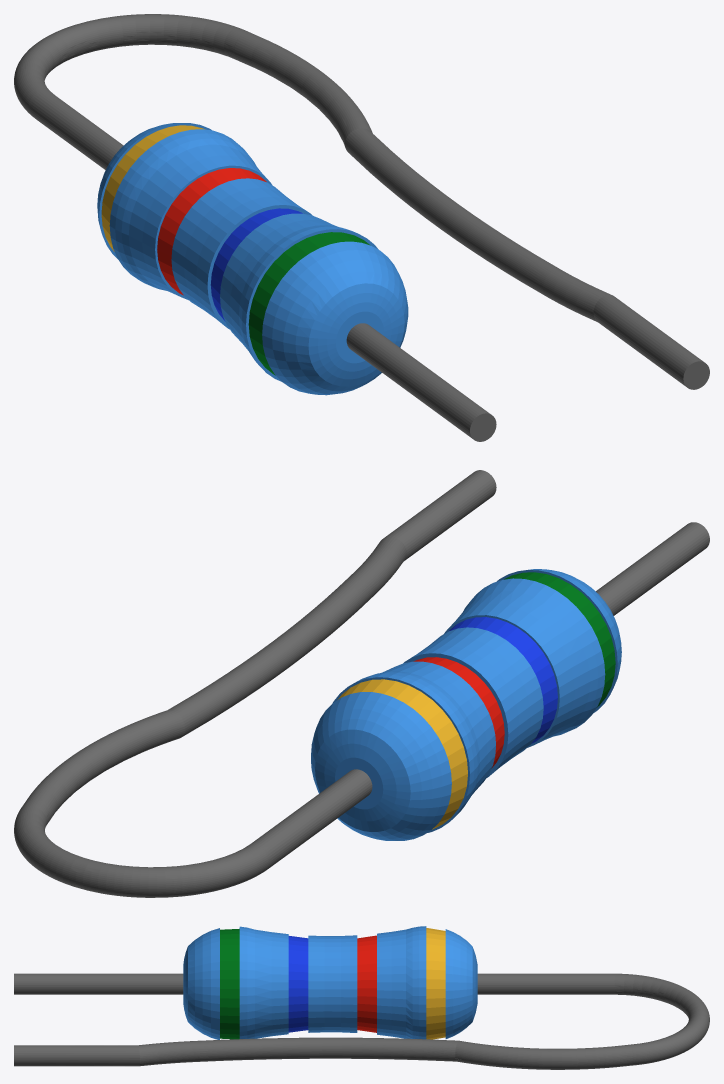
The model's file is RESISTOR.fbx.
3 views of the same model, one above another, from view 1: azimuth 30°, elevation 25°; view 2: azimuth 150°, elevation 25°; view 3: azimuth 270°, elevation 25° (orthographic). The views are drawn at different scales.
Visible parts, largest first — view 1: Resistor; view 2: Resistor; view 3: Resistor.
Boxes of the visible parts, x1=… form: Resistor: x1=14, y1=14, x2=709, y2=441; Resistor: x1=14, y1=470, x2=709, y2=897; Resistor: x1=14, y1=926, x2=709, y2=1069.
Size of the model in its own units: 502 by 237 by 1418.
